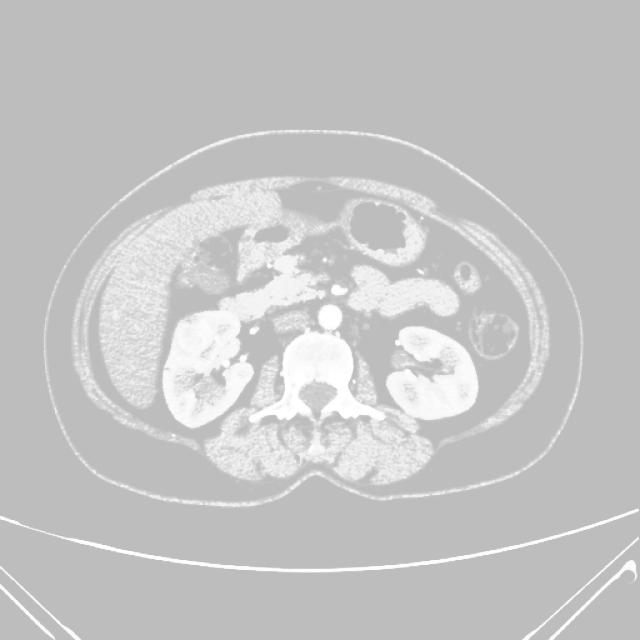TUMOR: (109, 220, 524, 434)
